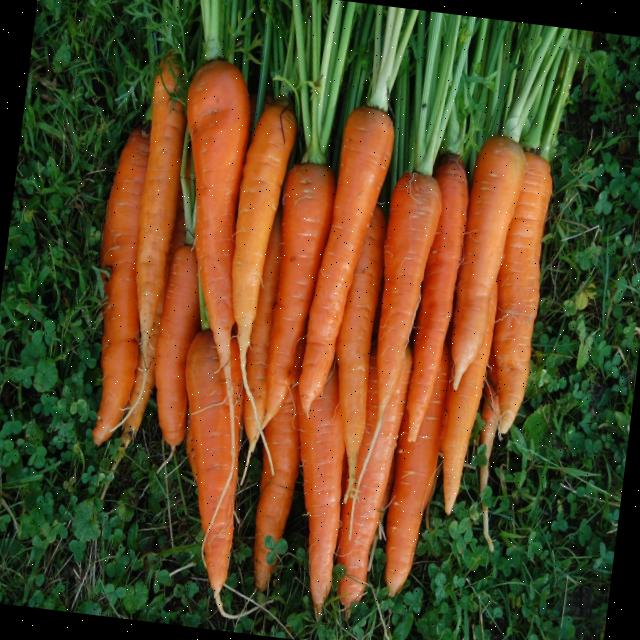carrot: (299, 106, 394, 414), (121, 55, 185, 445), (360, 171, 441, 477), (186, 60, 250, 367), (262, 162, 335, 426), (451, 135, 526, 388), (406, 154, 468, 442), (92, 129, 148, 444), (492, 152, 552, 433), (384, 344, 450, 595), (335, 206, 386, 500), (253, 340, 305, 591), (298, 366, 345, 617), (185, 331, 232, 532), (203, 407, 240, 591), (232, 225, 264, 339)
